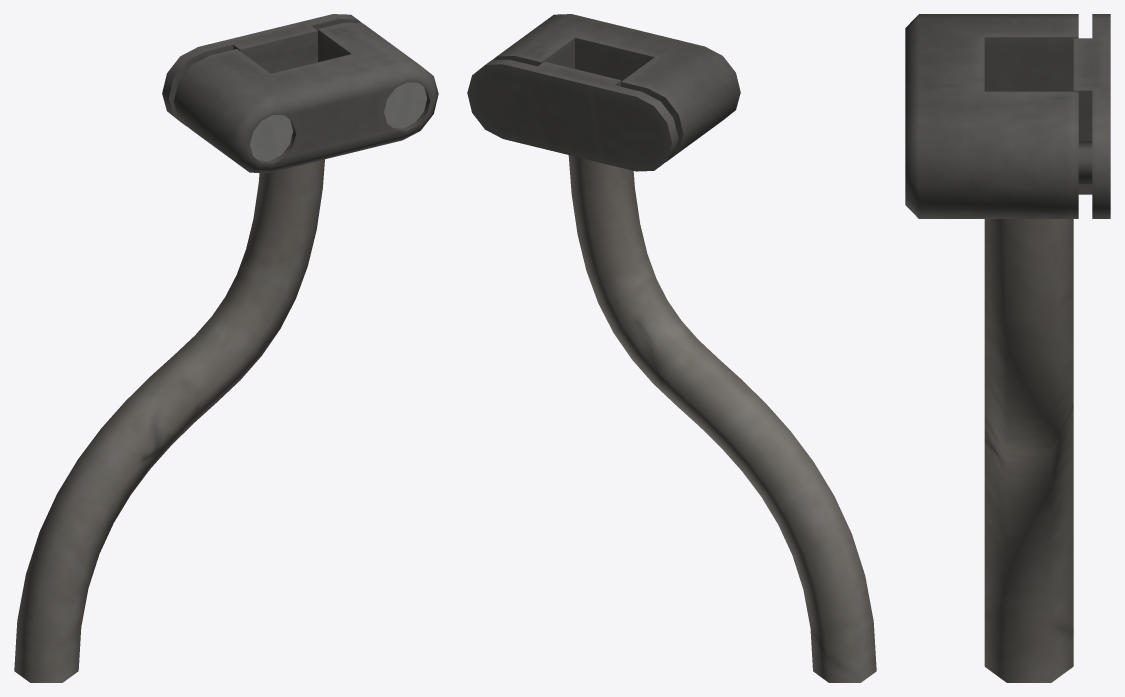
Rendered from cable_cable_scurve_4.fbx.
The picture shows the model from 3 angles, left to right: view 1: azimuth 30°, elevation 25°; view 2: azimuth 150°, elevation 25°; view 3: azimuth 270°, elevation 25°; orthographic projection. The views are drawn at different scales.
Visible parts, largest first — view 1: modular_electric_cables__cable_scurve_4; view 2: modular_electric_cables__cable_scurve_4; view 3: modular_electric_cables__cable_scurve_4.
Part boxes in pixels (x1,y1,x2,y2): modular_electric_cables__cable_scurve_4: [14, 14, 438, 682]; modular_electric_cables__cable_scurve_4: [467, 14, 876, 682]; modular_electric_cables__cable_scurve_4: [905, 14, 1110, 682].
Size of the model in its own units: 0.0757 by 0.1073 by 0.0259.
